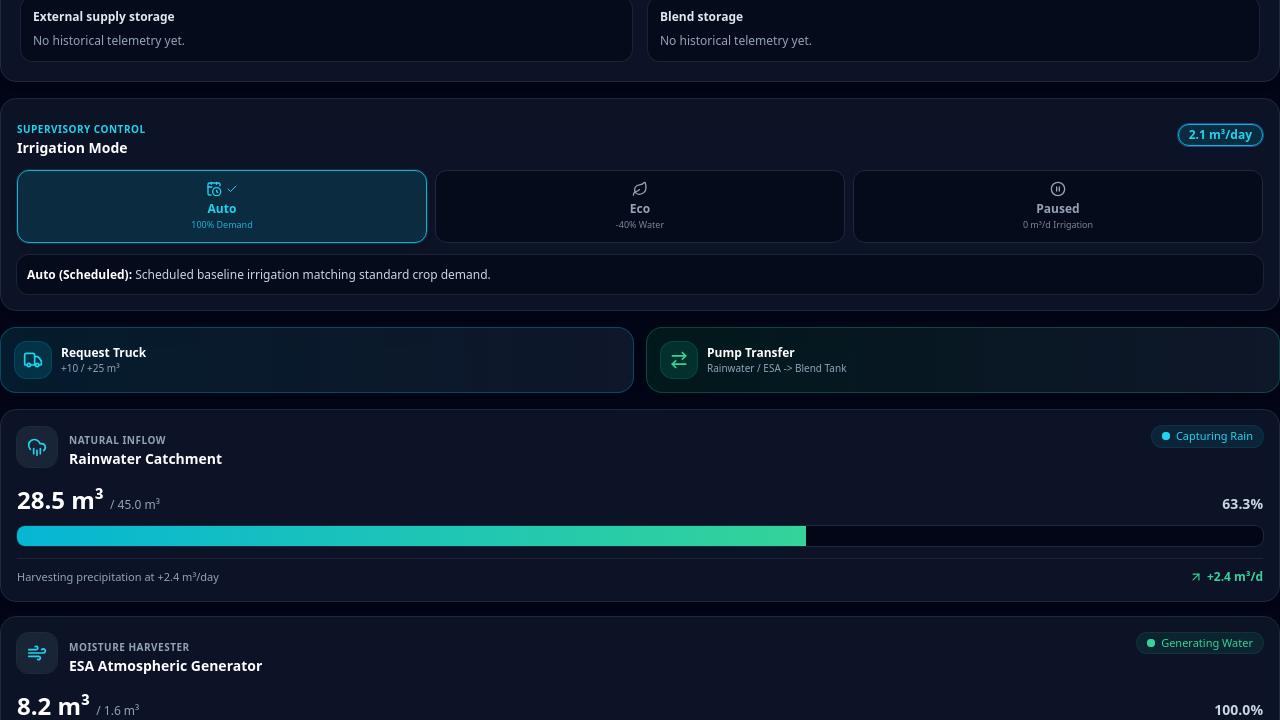
Test: TanksView Component › renders supervisory controls and opens modals when quick action buttons are clicked
(page scrolled)
Expected: the heading "Irrigation Mode" is shown, [17,138,146,156]
Expected: the button "Pump Transfer Rainwater / ESA -> Blend Tank" is shown, [646,327,1279,393]
Note: Open Water Truck Modal
Click the button "Request Truck +10 / +25 m³" at x=33, y=360, box [0,327,634,393]
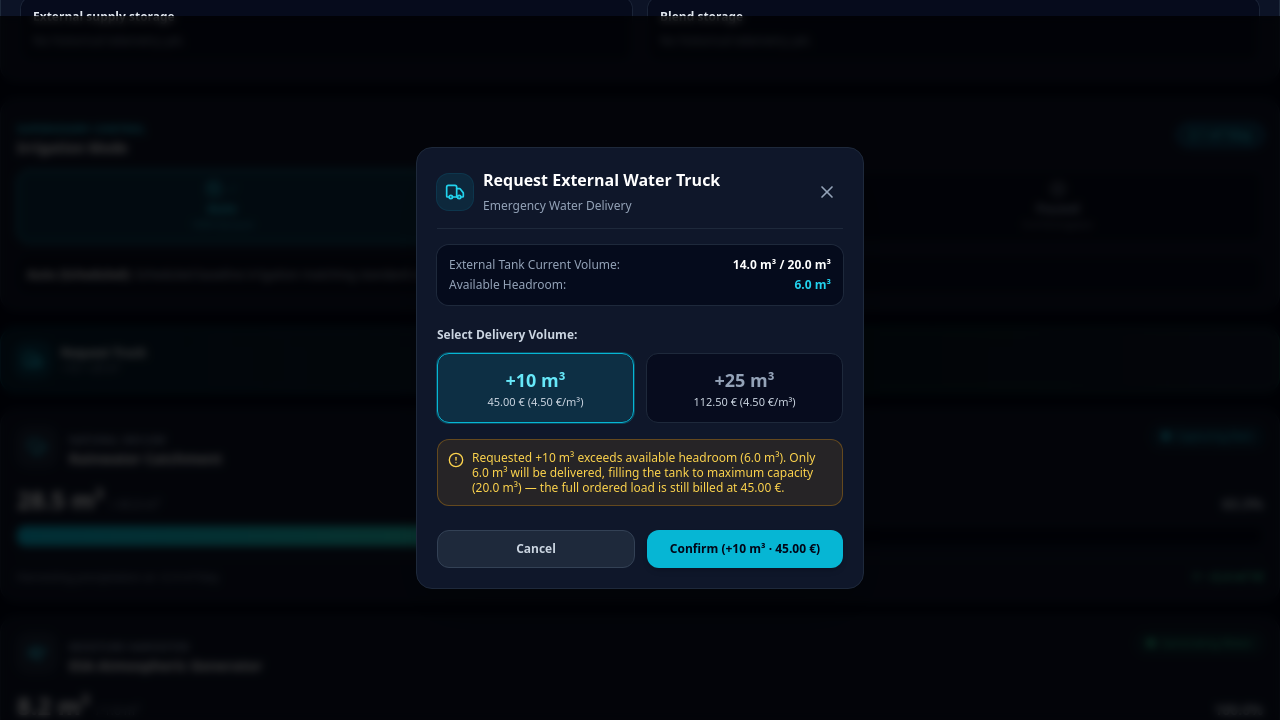
Now the dialog is shown
Now the heading "Request External Water Truck" is shown, box [483,168,720,192]
Note: Close Water Truck Modal
Click the button named "Close dialog" at x=827, y=192, box [811,176,843,208]
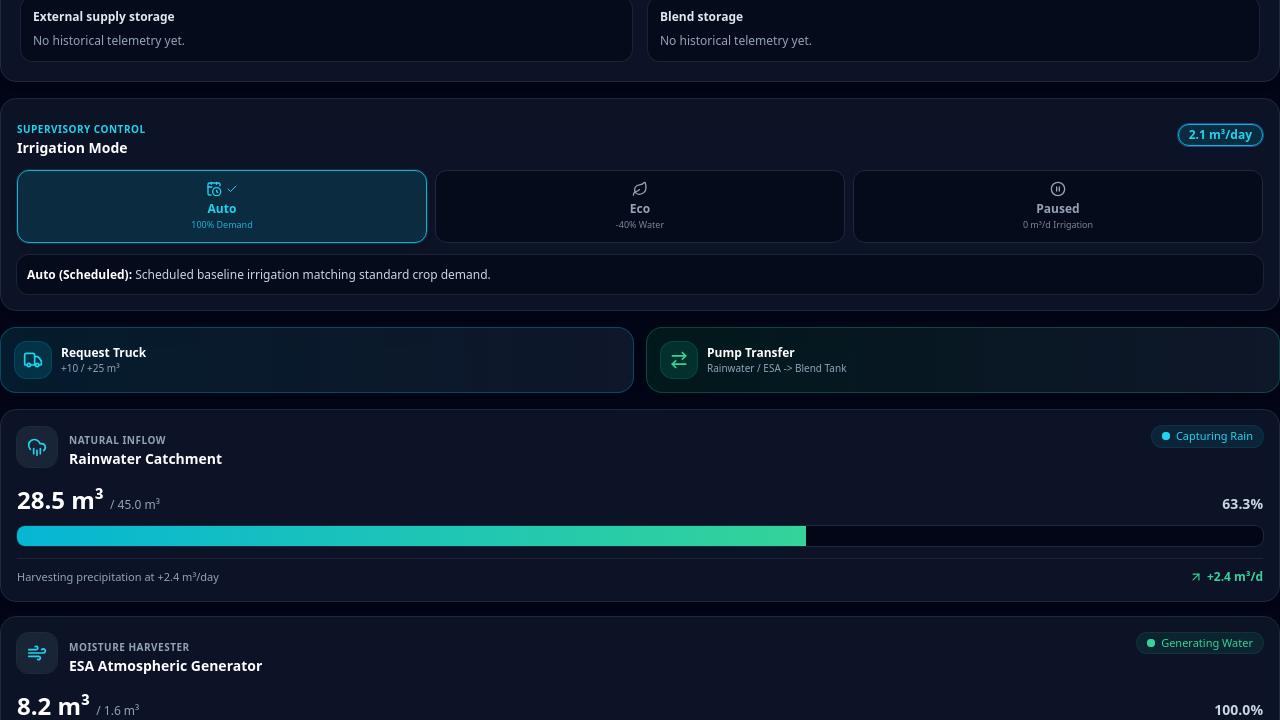
Note: Open Pump Transfer Modal
Click the button "Pump Transfer Rainwater / ESA -> Blend Tank" at x=679, y=360, box [646,327,1279,393]
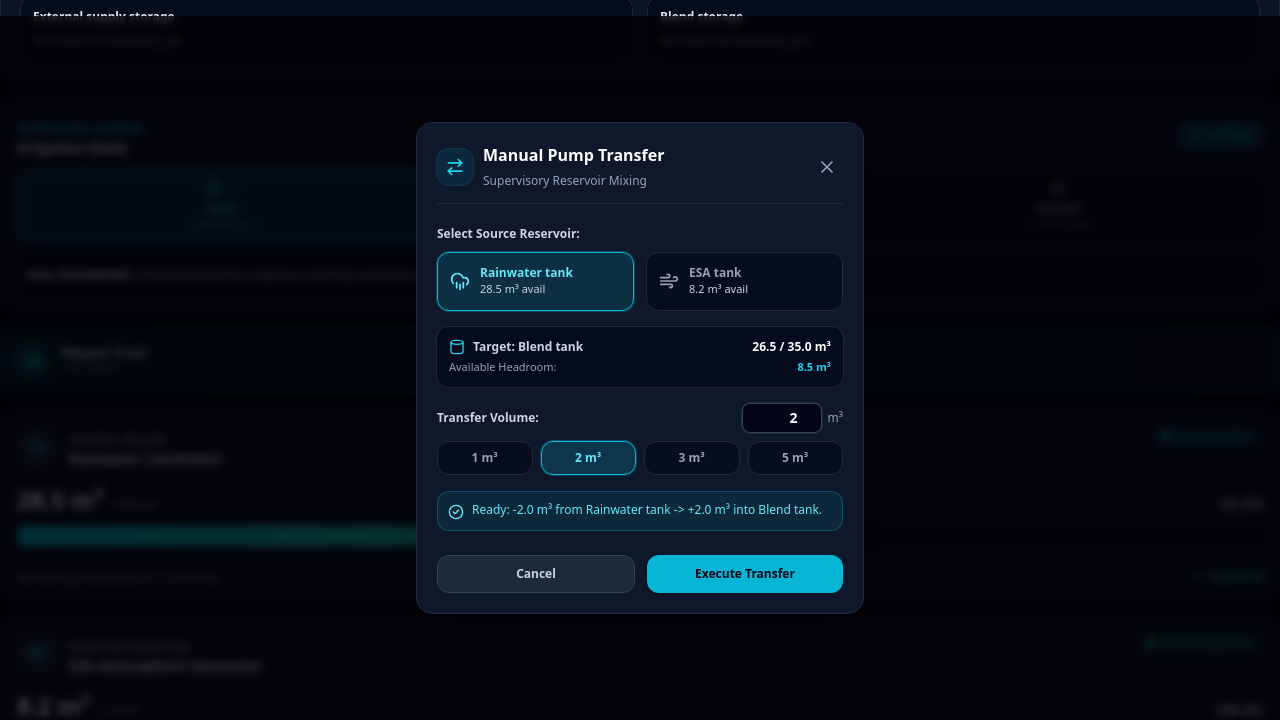
Now the dialog is shown
Now the heading "Manual Pump Transfer" is shown, box [483,143,664,167]
